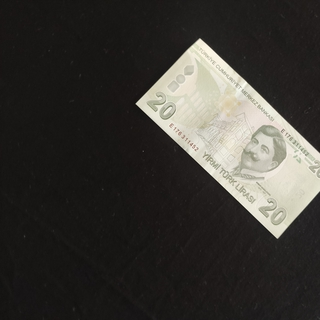20TLBack: (135, 37, 320, 239)
